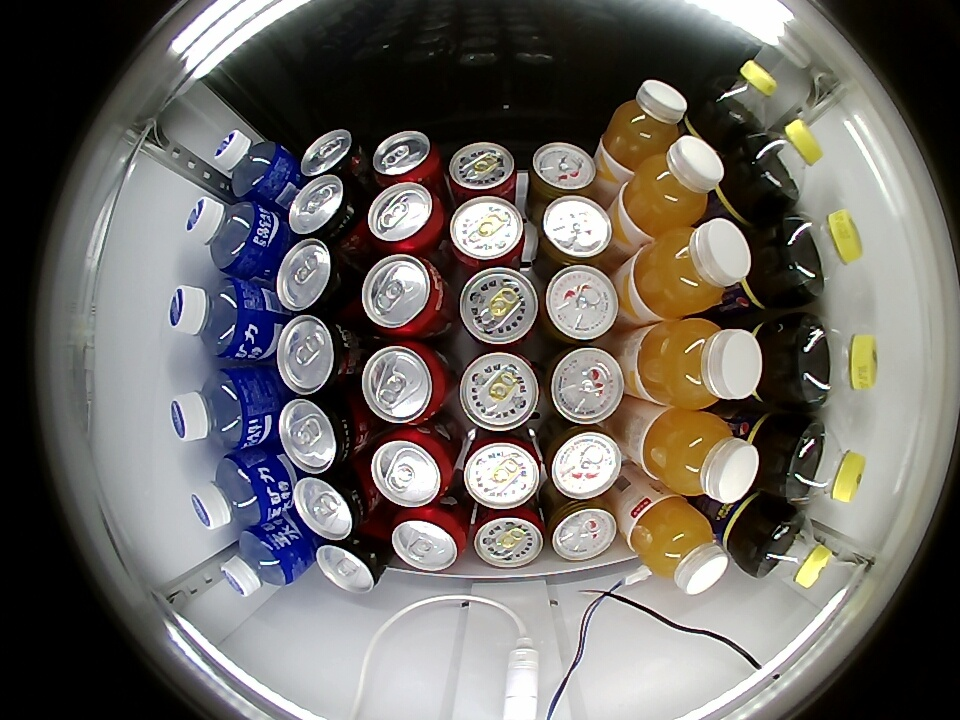baishikele: (779, 209, 864, 301), (778, 419, 867, 505), (797, 315, 878, 407), (743, 119, 824, 202), (753, 511, 833, 588), (700, 59, 780, 135)
baokuangli: (170, 367, 261, 449), (168, 279, 255, 360), (185, 195, 271, 276), (189, 452, 277, 530), (220, 525, 303, 597), (213, 129, 291, 202)
hongniu2: (543, 345, 625, 425), (541, 264, 619, 343), (544, 423, 622, 500), (537, 195, 614, 267), (547, 497, 618, 561), (529, 142, 598, 202)
kele: (361, 339, 447, 424), (361, 254, 445, 338), (369, 426, 455, 508), (367, 182, 444, 253), (391, 507, 467, 573), (371, 130, 440, 186)
lingdukele: (278, 394, 360, 473), (277, 315, 357, 395), (276, 238, 356, 314), (292, 468, 371, 541), (288, 174, 362, 243), (316, 534, 388, 594), (299, 129, 366, 184)
wangzainiunai: (459, 350, 541, 432), (462, 427, 541, 510), (458, 267, 540, 346), (448, 196, 526, 272), (471, 502, 545, 569), (447, 142, 517, 204)
weic: (632, 219, 752, 320), (638, 318, 763, 408), (641, 409, 759, 503), (619, 136, 725, 237), (627, 496, 730, 595), (602, 80, 689, 171)
